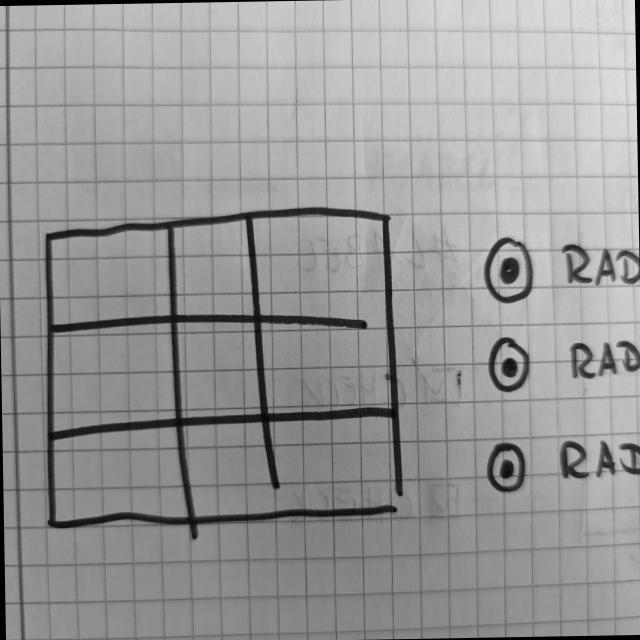radio: (483, 231, 640, 307), (484, 432, 640, 498), (486, 332, 640, 398)
table: (39, 202, 410, 534)
